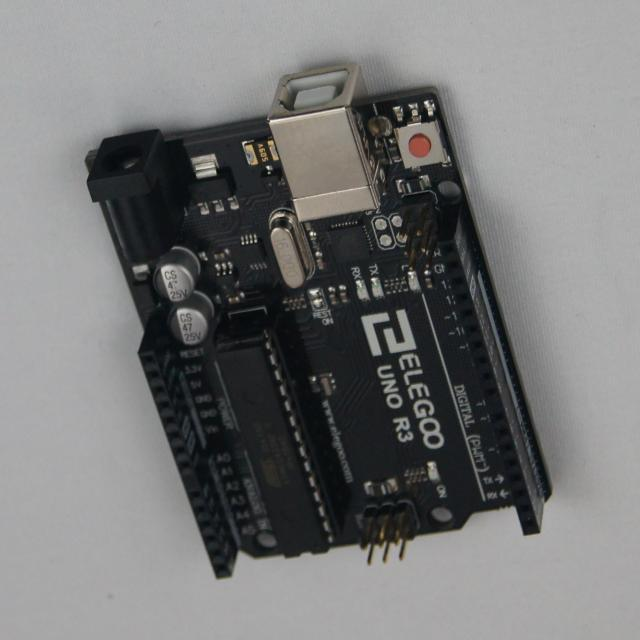Arduino Uno -Black-: (87, 65, 551, 579)
